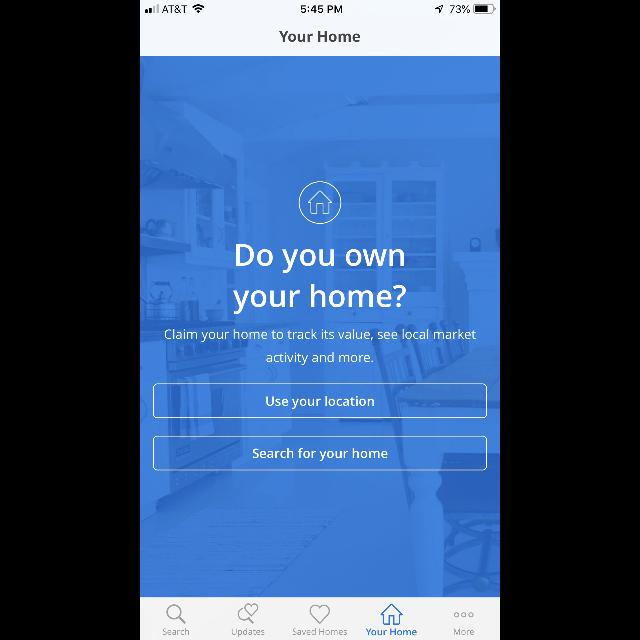backgroundimage: (140, 57, 500, 598)
icon: (298, 182, 342, 224), (238, 602, 258, 624), (381, 604, 403, 624), (166, 604, 186, 624), (310, 604, 330, 624), (454, 612, 474, 618)
text: (232, 244, 406, 314), (164, 328, 476, 366), (280, 32, 360, 42), (366, 628, 416, 636), (293, 628, 347, 634), (232, 628, 264, 638), (163, 628, 189, 634), (454, 629, 474, 635)
textbutton: (153, 384, 487, 418), (153, 436, 487, 470)
uppertaskbar: (140, 0, 500, 14)
